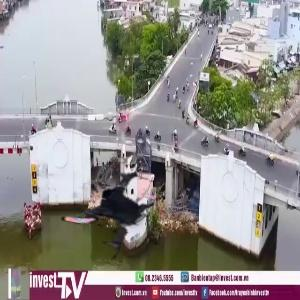drone: (47, 146, 167, 266)
